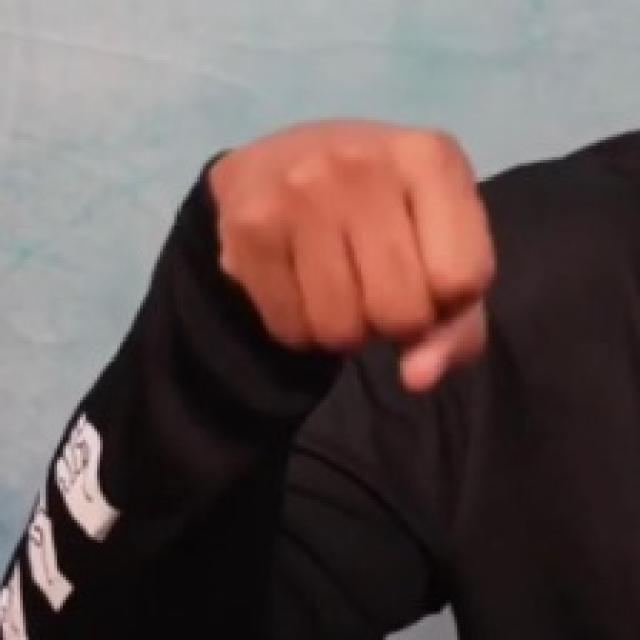yes: (204, 110, 508, 397)
